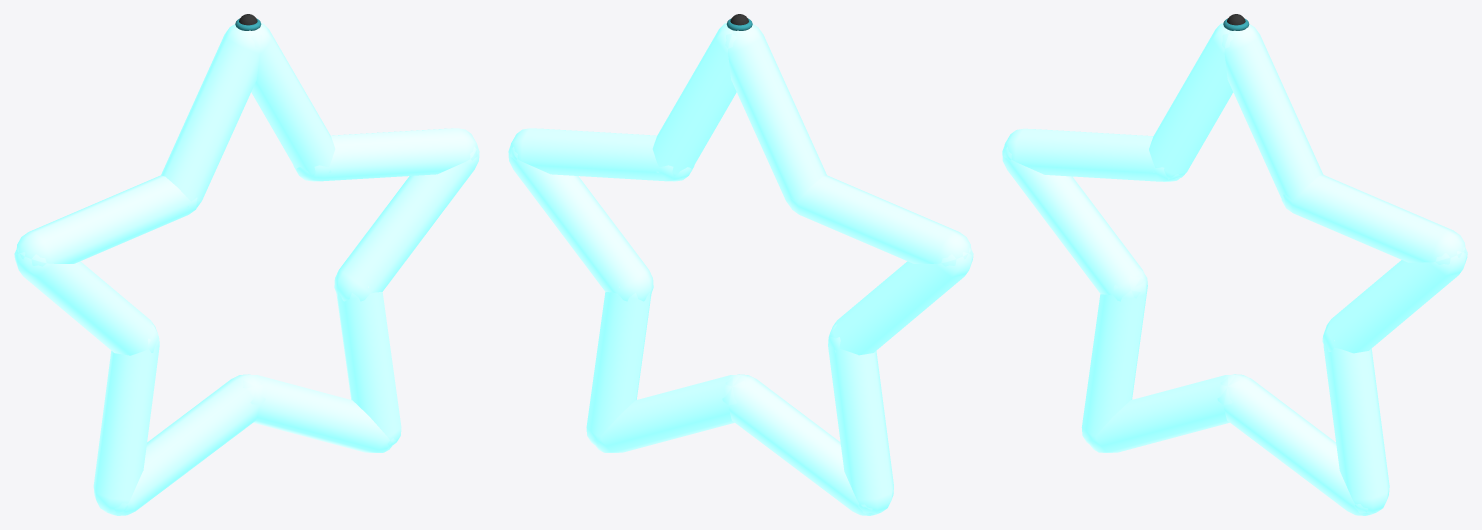
The model's file is tubeStar.gltf.
The picture shows the model from 3 angles, left to right: view 1: azimuth 30°, elevation 25°; view 2: azimuth 150°, elevation 25°; view 3: azimuth 330°, elevation 25°; orthographic projection.
Parts seen in each view (by area): view 1: Capsule (×10); view 2: Capsule (×10); view 3: Capsule (×10).
Part boxes in pixels (x1,y1,x2,y2): Capsule (×10): (14, 23, 479, 515); Capsule (×10): (508, 23, 973, 515); Capsule (×10): (1002, 23, 1467, 515).
Size of the model in its own units: 3.28 by 3.2 by 0.3016.
